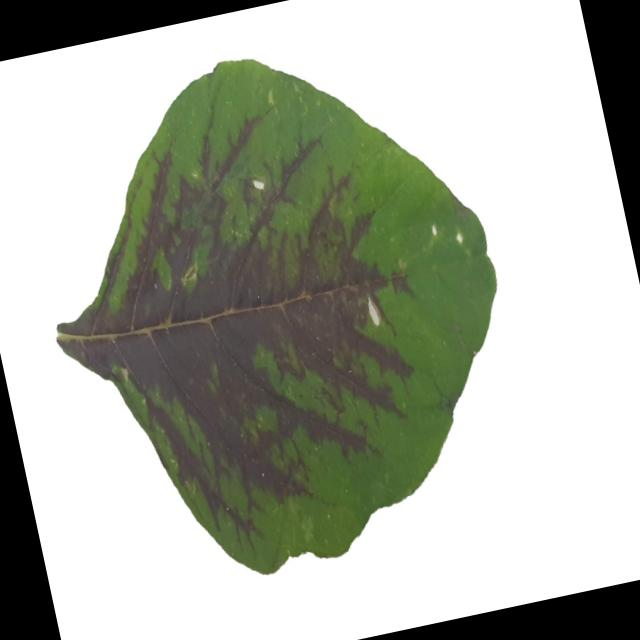Medicinal-Arive Dantu: (7, 11, 545, 610)
